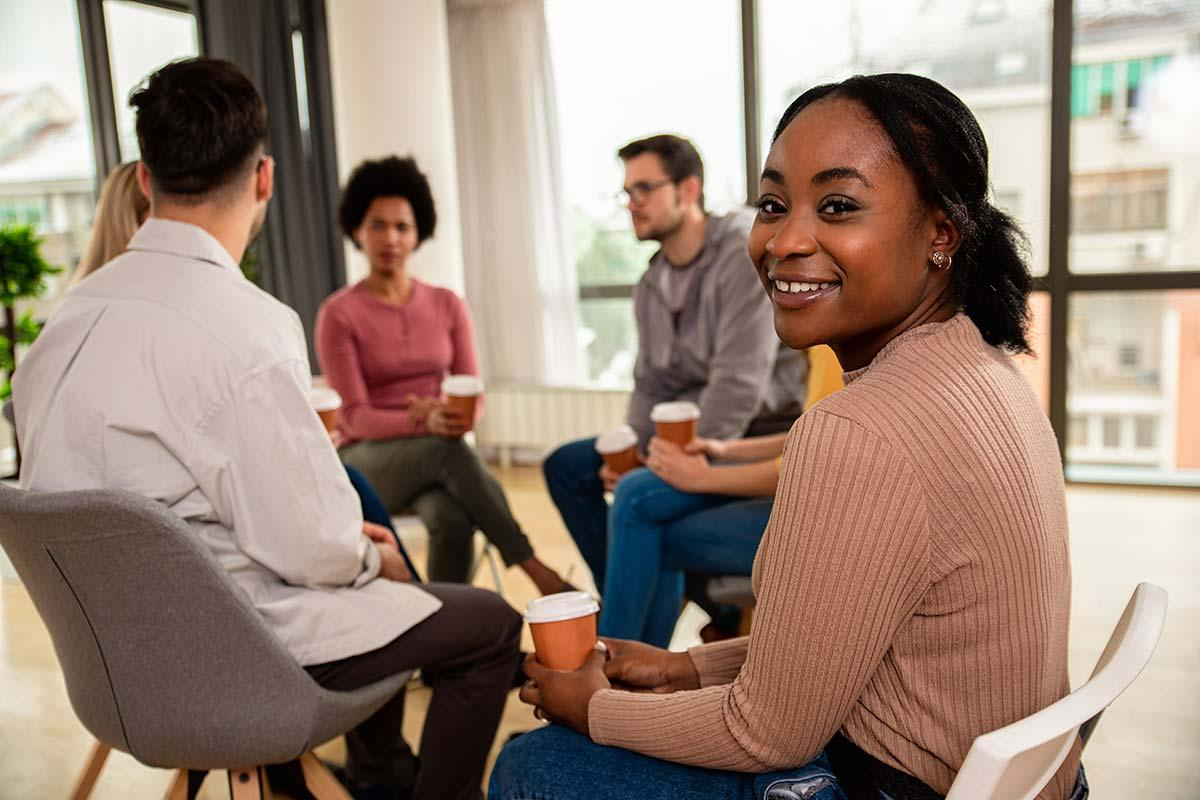jacket: (628, 209, 809, 445)
long sleeve shirt: (14, 218, 441, 666), (313, 271, 482, 437)
sweater: (588, 314, 1071, 795)
trousers: (303, 579, 527, 800), (595, 443, 780, 659), (488, 718, 872, 800), (340, 434, 534, 582), (541, 438, 607, 595)
